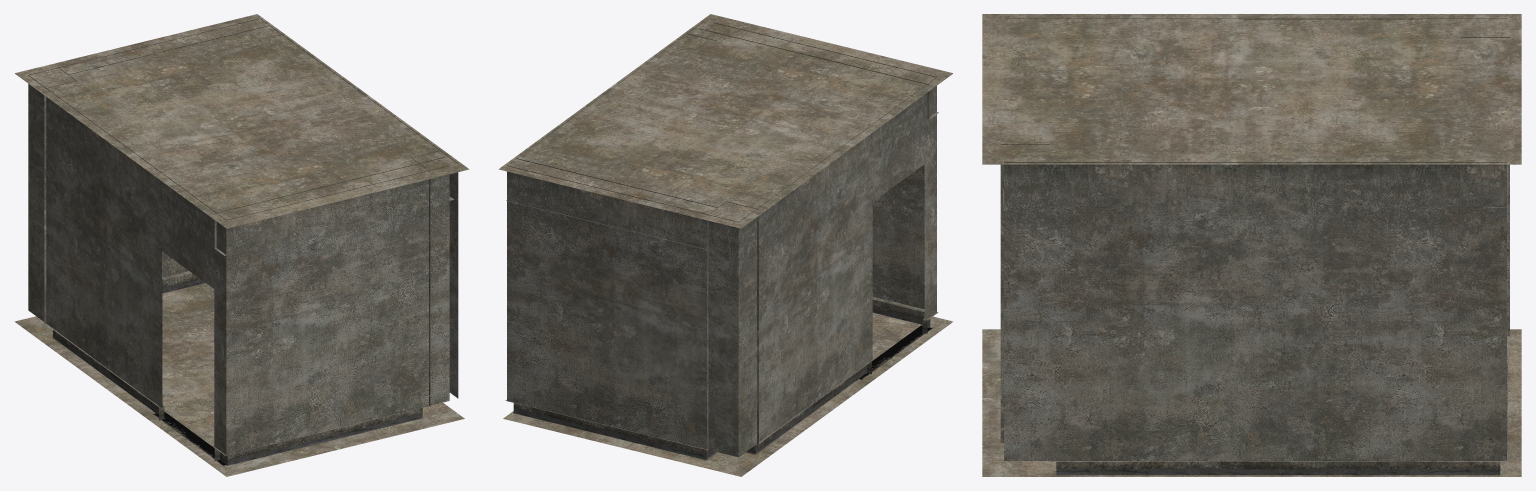
Rendered from st4_305_0_terrain_00ms.fbx.
The picture shows the model from 3 angles, left to right: view 1: azimuth 30°, elevation 25°; view 2: azimuth 150°, elevation 25°; view 3: azimuth 270°, elevation 25°; orthographic projection. The views are drawn at different scales.
Visible parts, largest first — view 1: LOD_1_Group_0_Sub_2__st2_police1fRightWall13, LOD_1_Group_0_Sub_1__st2_police1fRightCeiling12, LOD_1_Group_0_Sub_3__st2_police1fRightDirt02; view 2: LOD_1_Group_0_Sub_2__st2_police1fRightWall13, LOD_1_Group_0_Sub_1__st2_police1fRightCeiling12, LOD_1_Group_0_Sub_3__st2_police1fRightDirt02; view 3: LOD_1_Group_0_Sub_2__st2_police1fRightWall13, LOD_1_Group_0_Sub_1__st2_police1fRightCeiling12.
Boxes of the visible parts, x1,y1,x2,y2 form: LOD_1_Group_0_Sub_2__st2_police1fRightWall13: [28, 18, 458, 465]; LOD_1_Group_0_Sub_1__st2_police1fRightCeiling12: [14, 14, 469, 476]; LOD_1_Group_0_Sub_3__st2_police1fRightDirt02: [153, 279, 226, 465]; LOD_1_Group_0_Sub_2__st2_police1fRightWall13: [505, 21, 938, 459]; LOD_1_Group_0_Sub_1__st2_police1fRightCeiling12: [498, 14, 953, 476]; LOD_1_Group_0_Sub_3__st2_police1fRightDirt02: [859, 325, 932, 379]; LOD_1_Group_0_Sub_2__st2_police1fRightWall13: [1000, 18, 1509, 475]; LOD_1_Group_0_Sub_1__st2_police1fRightCeiling12: [982, 14, 1521, 476].
Bounding box in the file's own units: 3.31 × 3.24 × 5.
